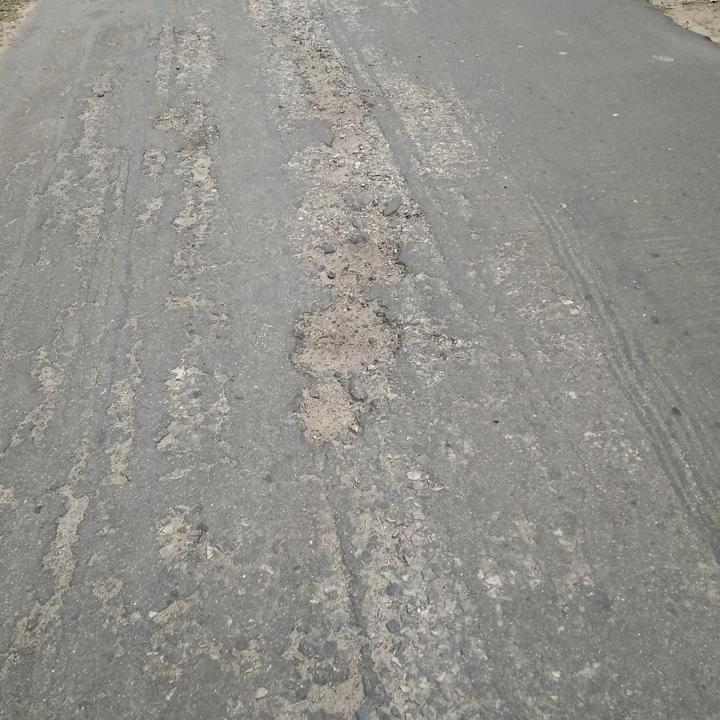pothole: (285, 296, 408, 376), (294, 47, 380, 158), (302, 236, 413, 292), (292, 374, 372, 451), (39, 481, 95, 589), (297, 670, 370, 718), (152, 509, 204, 564)
